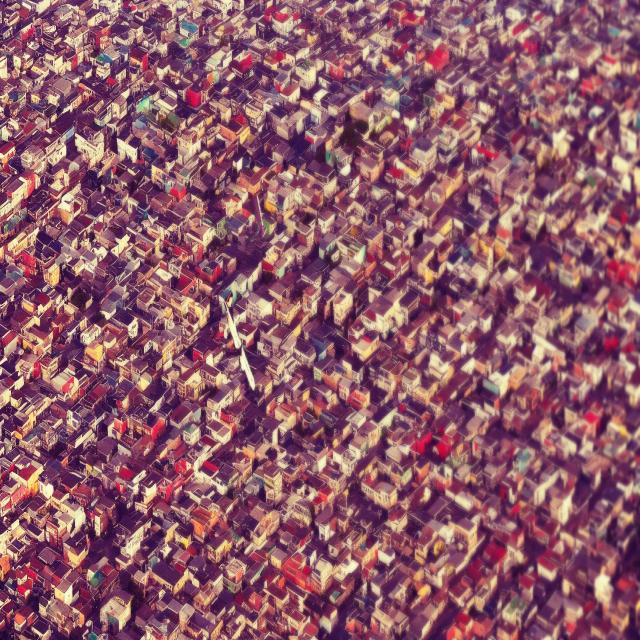airplane: (223, 297, 256, 392)
